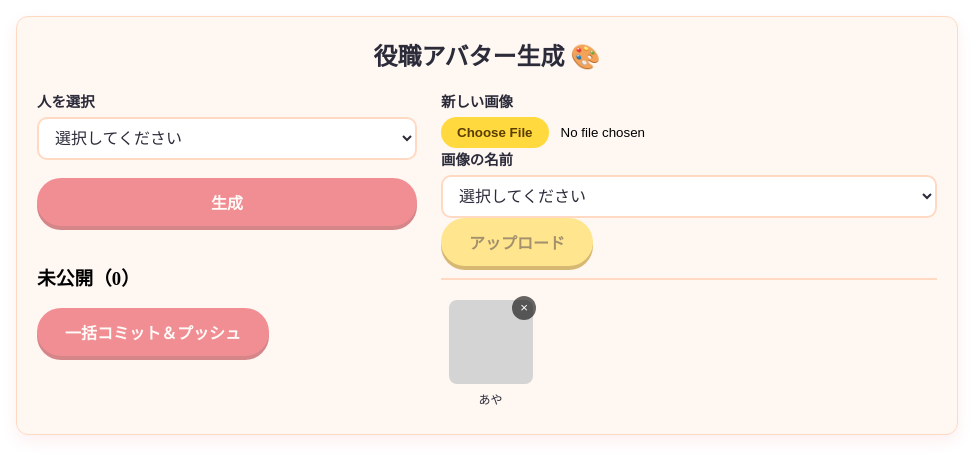
Test case: style selection › shows an error and keeps 生成 disabled when loadStyles fails
Select "ゆ（怒りのタツノオトシゴ）" in the dropdown labelled "人を選択" at {"x": 227, "y": 138}, box [37,117,417,160]
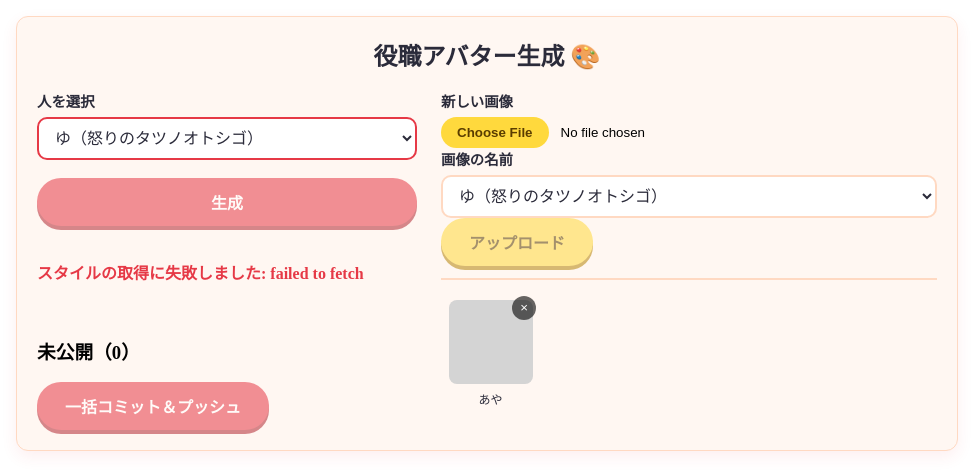
Expected: the button "生成" is disabled, [37,178,417,226]
Result: the text "スタイルの取得に失敗しました: failed to fetch" is shown at [37,260,417,284]
